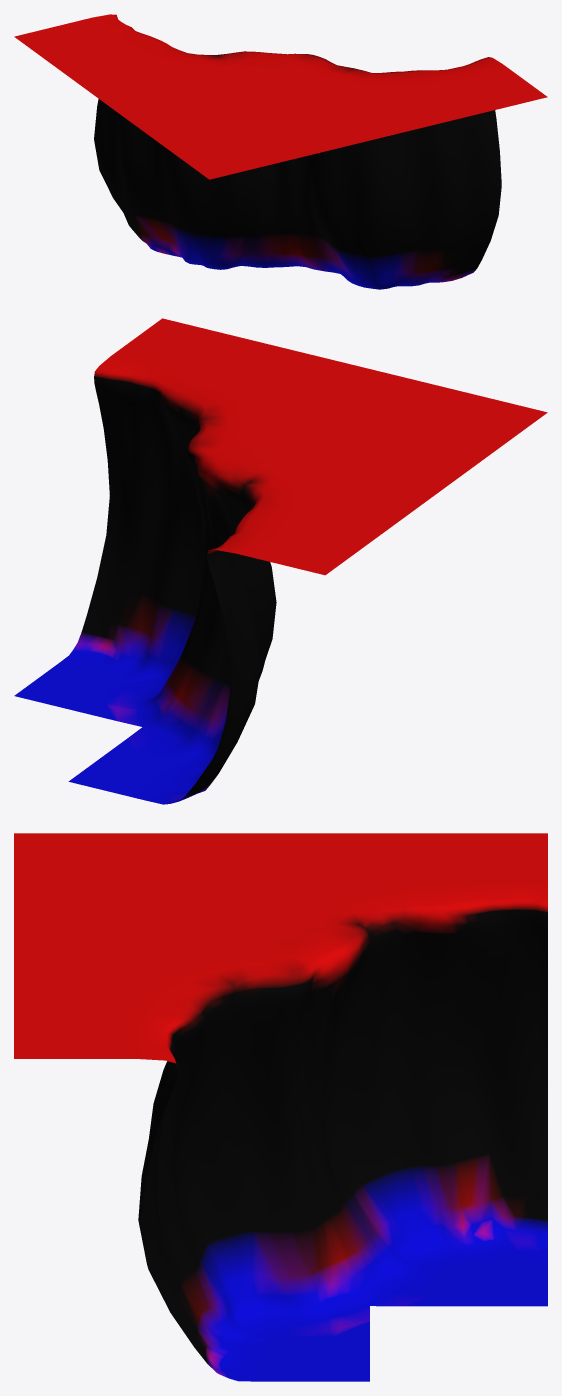
Rendered from GroundCliff04A 2M for Water Foreground.fbx.
3 views of the same model, one above another, from view 1: azimuth 30°, elevation 25°; view 2: azimuth 150°, elevation 25°; view 3: azimuth 270°, elevation 25° (orthographic). The views are drawn at different scales.
Visible parts, largest first — view 1: GroundCliff04A 2M for Water Foreground; view 2: GroundCliff04A 2M for Water Foreground; view 3: GroundCliff04A 2M for Water Foreground.
Boxes of the visible parts, bbox=[...] form: GroundCliff04A 2M for Water Foreground: bbox=[14, 14, 547, 289]; GroundCliff04A 2M for Water Foreground: bbox=[14, 318, 547, 804]; GroundCliff04A 2M for Water Foreground: bbox=[14, 833, 547, 1381].
Size of the model in its own units: 3 by 2 by 3.
